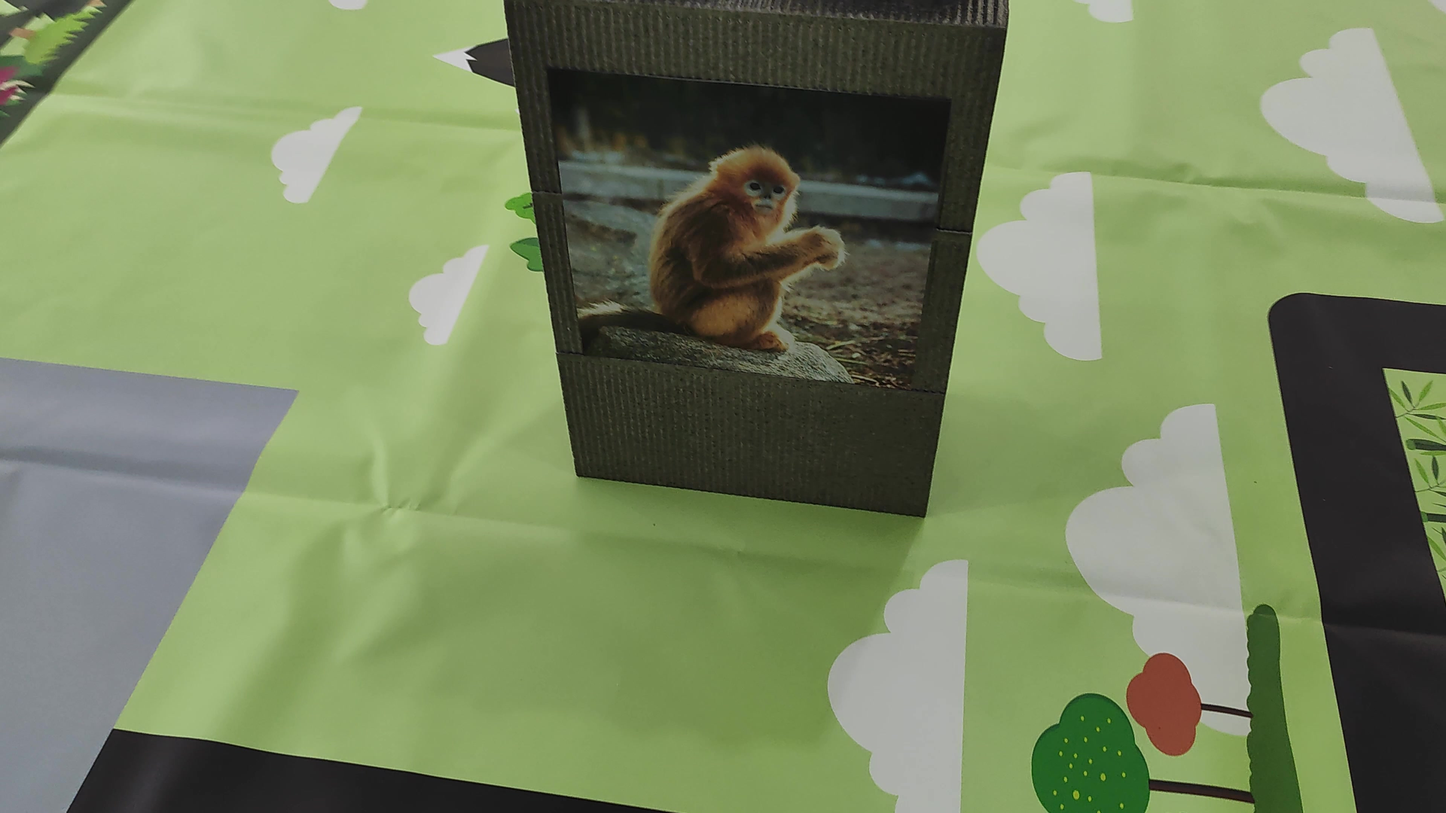monkey: (619, 131, 869, 364)
